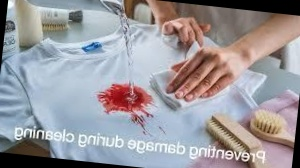blood: (97, 82, 154, 118)
